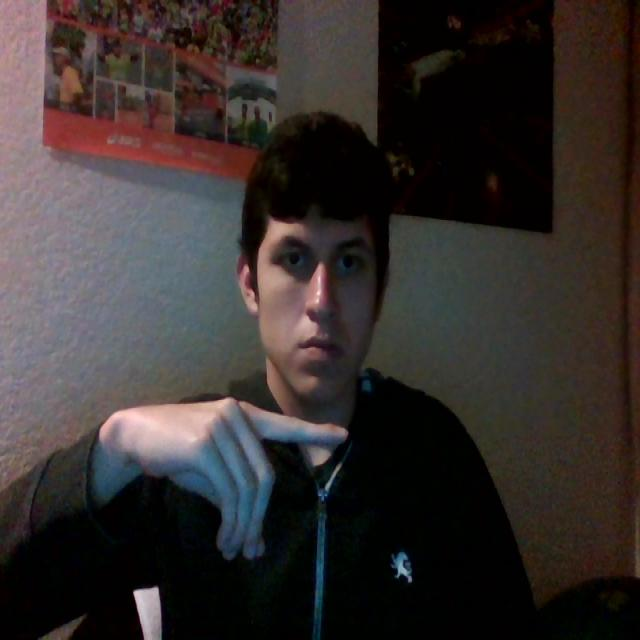P: (86, 348, 368, 592)
